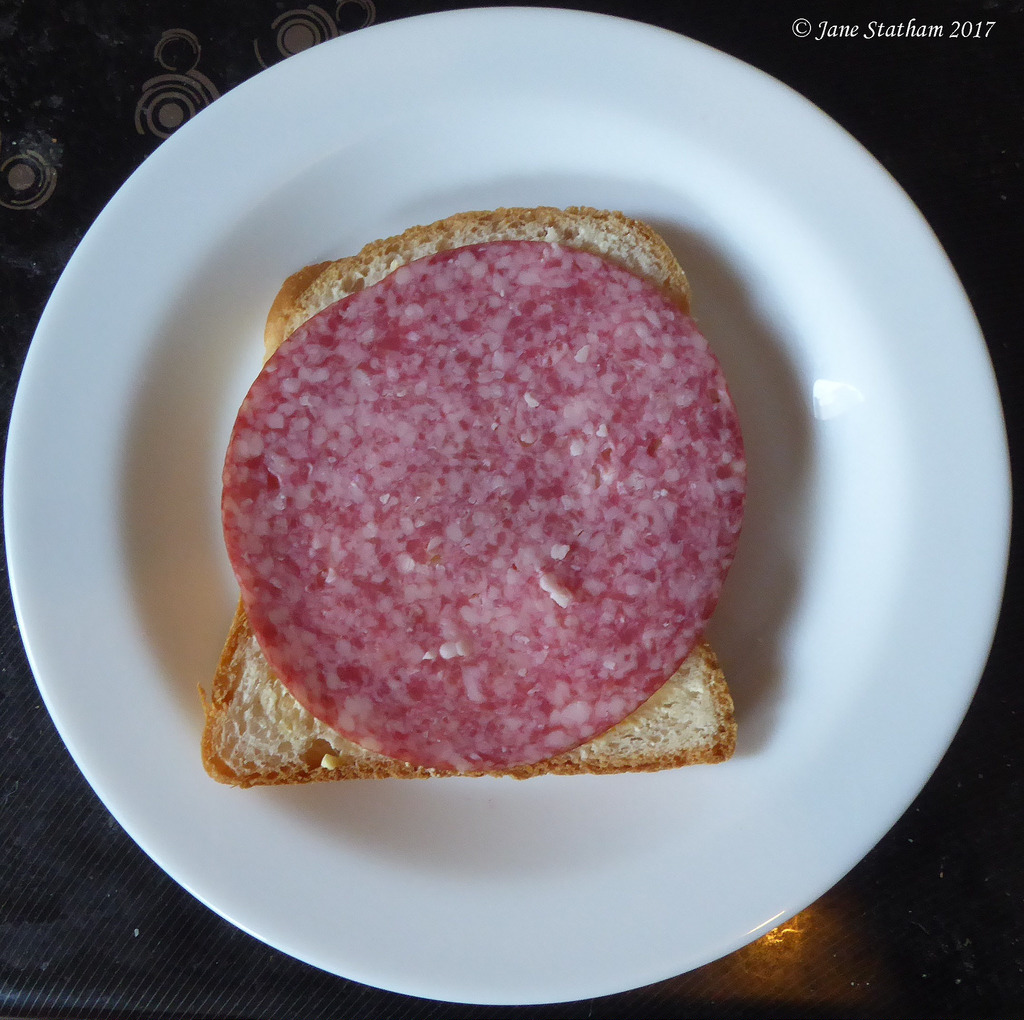slice of bread: (263, 269, 714, 776)
